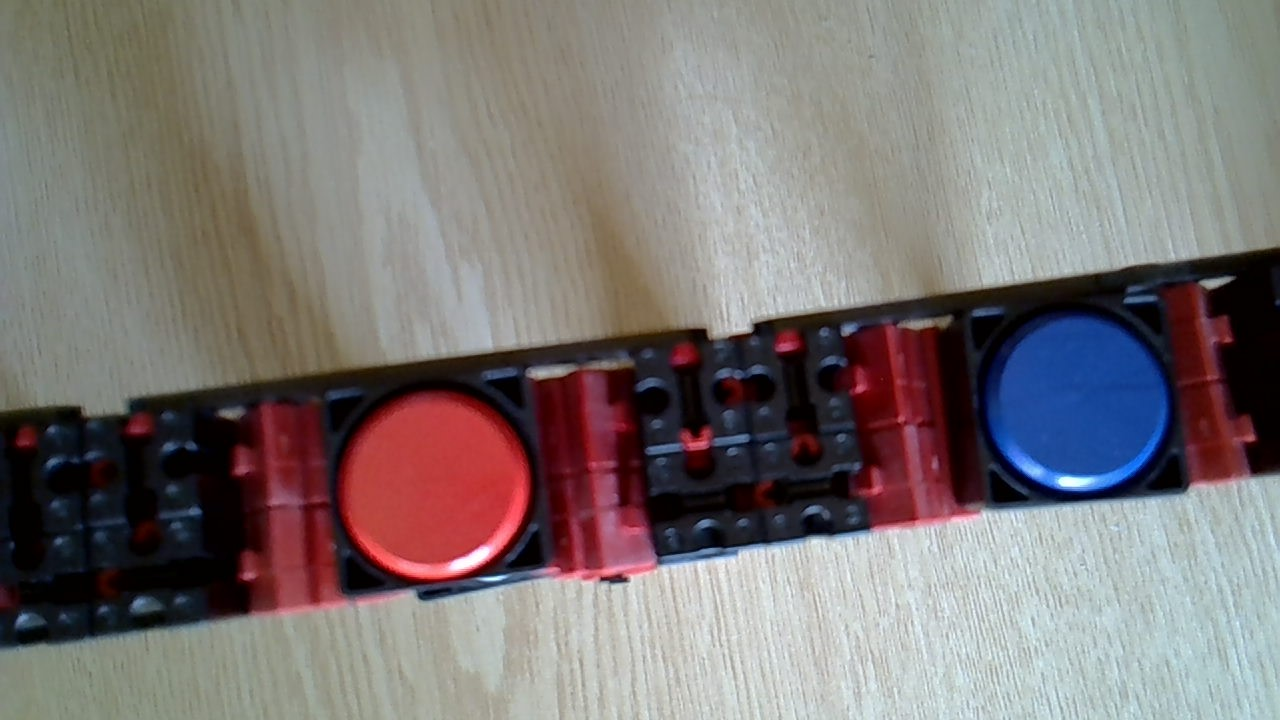Behaelter: (948, 308, 1190, 507), (324, 381, 546, 590)
WerkStueck: (337, 380, 531, 579), (985, 307, 1172, 492)
